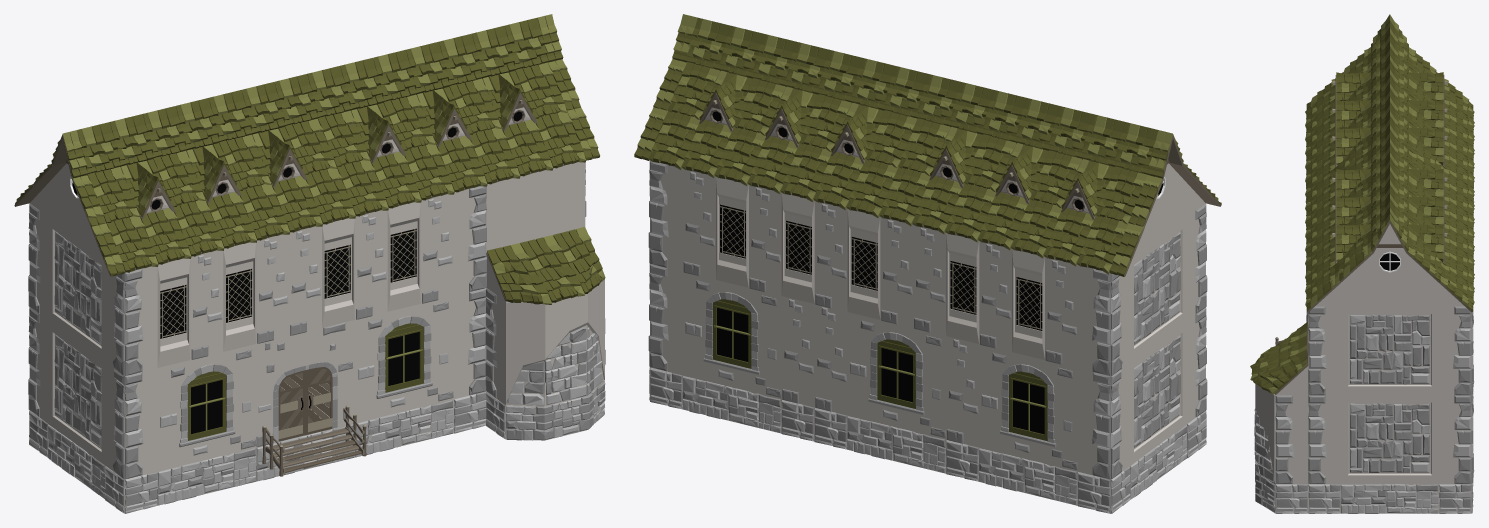
Rendered from House_03.glb.
3 renders of one model, left to right at view 1: azimuth 30°, elevation 25°; view 2: azimuth 150°, elevation 25°; view 3: azimuth 270°, elevation 25°, orthographic. The views are drawn at different scales.
Visible parts, largest first — view 1: WINDOW_05_13, WINDOW_05_12, BALKON_03_2, DOOR_02_2, ROOF_base_round_2, WALL_02_2, WALL_02_3, FOUNDATION_01_2, WALL_05_2, WALL_06_5, WALL_06_2, WALL_05_6 (+74 smaller); view 2: WINDOW_05_15, WINDOW_05_14, WINDOW_05_16, WALL_02_2, WALL_02_3, WALL_06_16, WALL_06_14, WALL_06_15, WALL_06_11, WALL_06_9, WALL_06_10, WINDOW_04_9 (+71 smaller); view 3: WALL_02_4, WALL_02_5, WALL_05_7, WALL_07_7, WALL_05_10, FOUNDATION_03_9, WALL_07_8, WALL_05_9, ROOF_base_round_2, BALKON_03_2, ROOF_TRIAGLE_QUAD_9, FOUNDATION_02_7 (+87 smaller).
Boxes of the visible parts, left/top/right/bottom form: WINDOW_05_13: left=157, top=344, right=256, bottom=470; WINDOW_05_12: left=355, top=296, right=453, bottom=422; BALKON_03_2: left=505, top=279, right=604, bottom=405; DOOR_02_2: left=256, top=320, right=354, bottom=447; ROOF_base_round_2: left=486, top=226, right=605, bottom=304; WALL_02_2: left=48, top=321, right=105, bottom=464; WALL_02_3: left=48, top=217, right=105, bottom=361; FOUNDATION_01_2: left=505, top=381, right=605, bottom=440; WALL_05_2: left=124, top=368, right=157, bottom=479; WALL_06_5: left=420, top=194, right=453, bottom=303; WALL_06_2: left=190, top=250, right=223, bottom=359; WALL_05_6: left=124, top=266, right=157, bottom=375; WINDOW_05_15: left=847, top=312, right=946, bottom=439; WINDOW_05_14: left=979, top=344, right=1077, bottom=471; WINDOW_05_16: left=683, top=272, right=781, bottom=398; WALL_02_2: left=1130, top=321, right=1186, bottom=465; WALL_02_3: left=1130, top=217, right=1186, bottom=361; WALL_06_16: left=781, top=296, right=814, bottom=406; WALL_06_14: left=946, top=336, right=979, bottom=447; WALL_06_15: left=814, top=304, right=847, bottom=415; WALL_06_11: left=814, top=201, right=847, bottom=311; WALL_06_9: left=913, top=225, right=946, bottom=335; WALL_06_10: left=880, top=216, right=913, bottom=327; WINDOW_04_9: left=781, top=193, right=814, bottom=303; WALL_02_4: left=1341, top=306, right=1438, bottom=395; WALL_02_5: left=1341, top=395, right=1438, bottom=483; WALL_05_7: left=1275, top=395, right=1308, bottom=483; WALL_07_7: left=1439, top=306, right=1471, bottom=395; WALL_05_10: left=1308, top=306, right=1340, bottom=395; FOUNDATION_03_9: left=1341, top=484, right=1438, bottom=513; WALL_07_8: left=1439, top=395, right=1471, bottom=483; WALL_05_9: left=1308, top=395, right=1340, bottom=483; ROOF_base_round_2: left=1250, top=322, right=1308, bottom=394; BALKON_03_2: left=1254, top=384, right=1275, bottom=483; ROOF_TRIAGLE_QUAD_9: left=1373, top=276, right=1406, bottom=306; FOUNDATION_02_7: left=1275, top=484, right=1308, bottom=513.
Size of the model in its own units: 14.91 by 10.14 by 6.89.
Materials: 1 (1 with a texture image).
